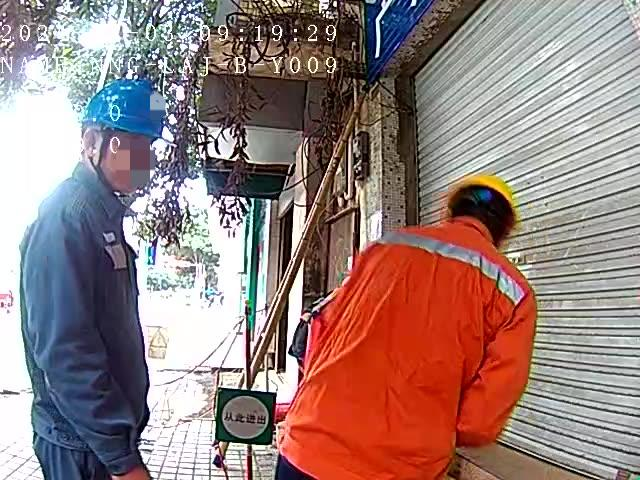halt: (80, 81, 168, 193), (450, 178, 520, 243)
inear: (80, 127, 113, 171)
